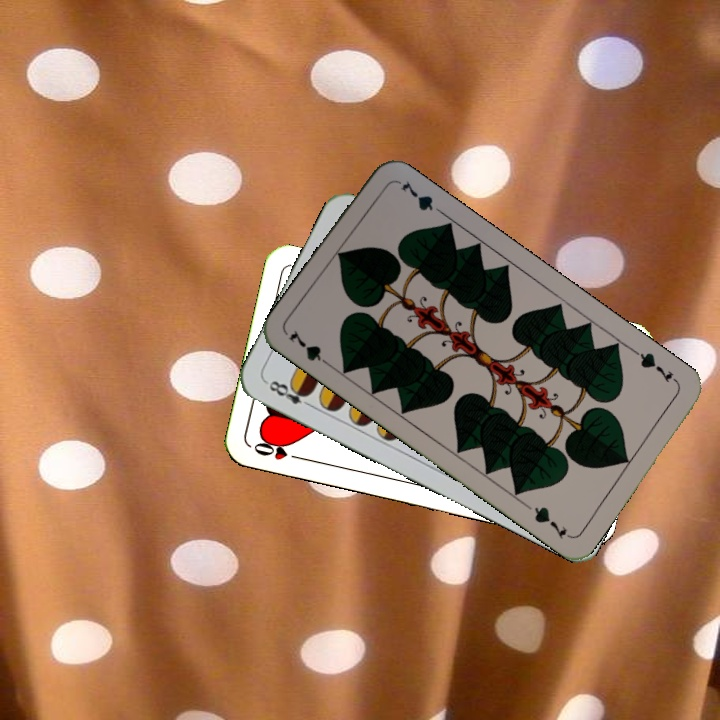E8: (262, 376, 316, 411)
G7: (284, 325, 336, 371), (630, 346, 681, 387)
HO: (249, 436, 307, 463)
